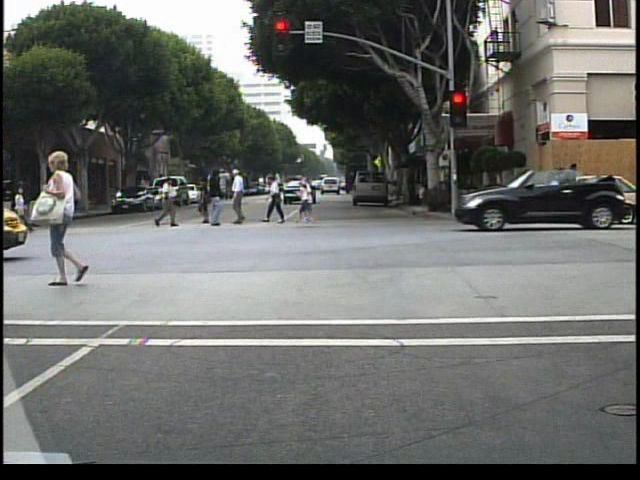person: (44, 148, 100, 293), (203, 167, 230, 231), (229, 166, 257, 227), (150, 173, 177, 231), (265, 173, 292, 227), (15, 193, 44, 239), (560, 156, 582, 214), (195, 175, 219, 228), (11, 181, 32, 224)
